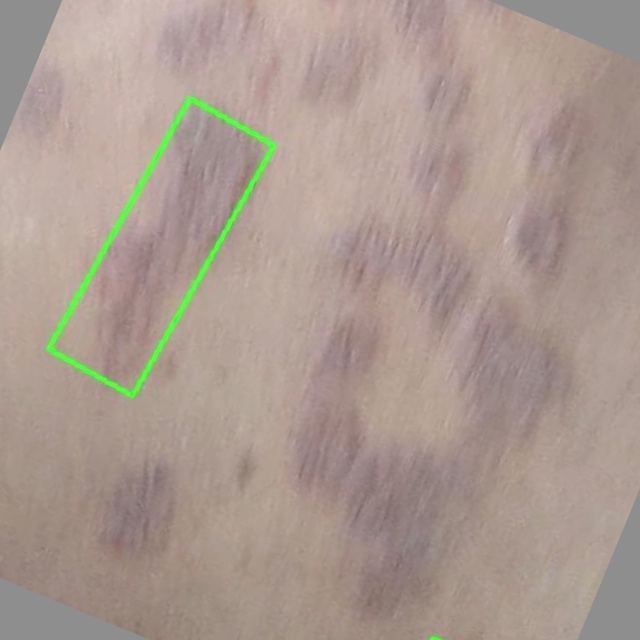Tinea Corporis: (48, 97, 273, 395)
